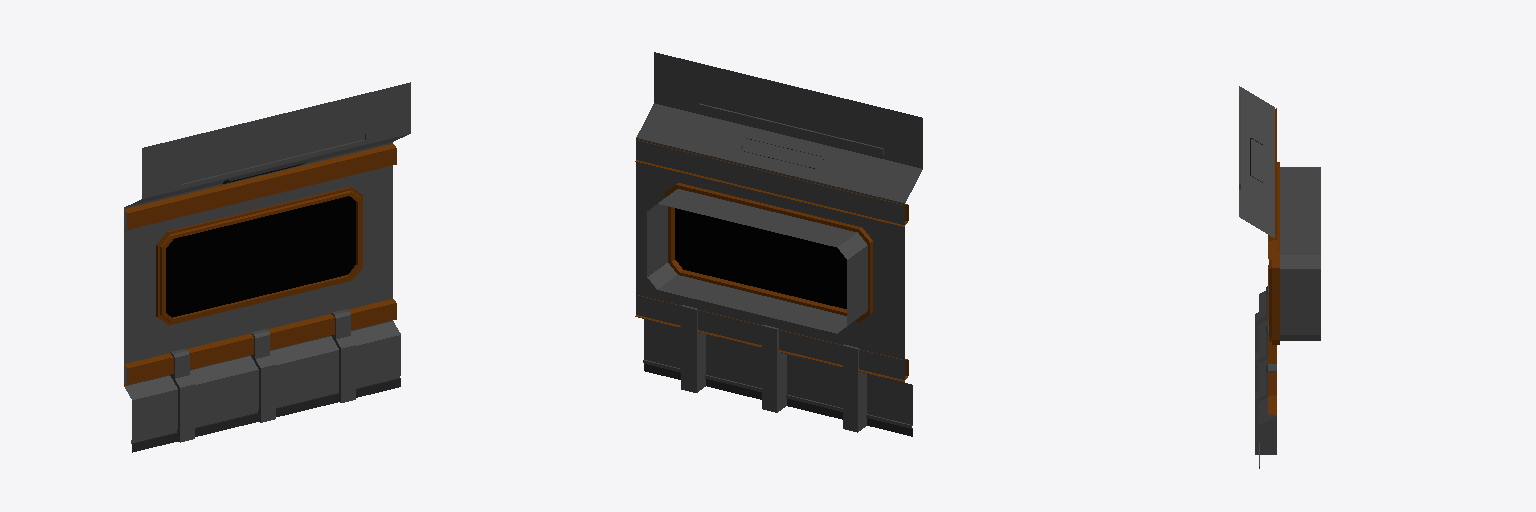
File: Window_Wall_SideA.obj
3 views of the same model, side by side, from view 1: azimuth 30°, elevation 25°; view 2: azimuth 150°, elevation 25°; view 3: azimuth 270°, elevation 25° (orthographic).
Parts seen in each view (by area): view 1: Window_Wall_SideA_Plane.003; view 2: Window_Wall_SideA_Plane.003; view 3: Window_Wall_SideA_Plane.003.
Boxes of the visible parts, box(x1,y1,x2,y2) form: Window_Wall_SideA_Plane.003: box(124, 82, 410, 452); Window_Wall_SideA_Plane.003: box(635, 52, 922, 436); Window_Wall_SideA_Plane.003: box(1239, 86, 1320, 468).
Bounding box in the file's own units: 4 × 4.43 × 1.06.